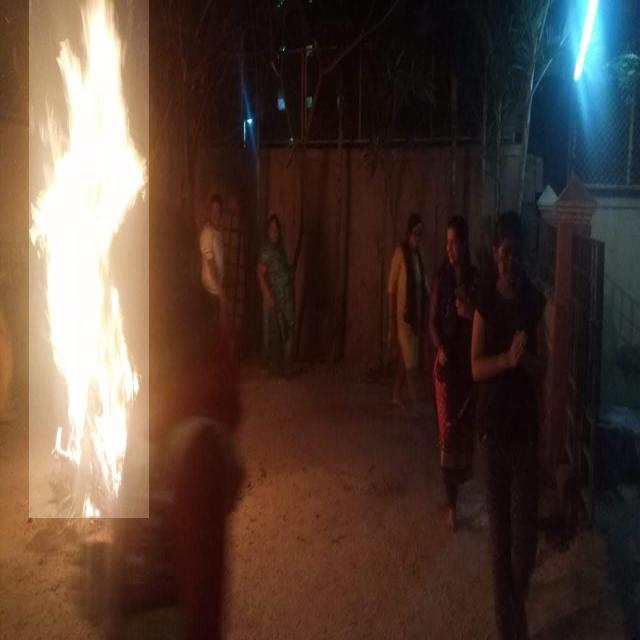Fire: (29, 0, 149, 518)
